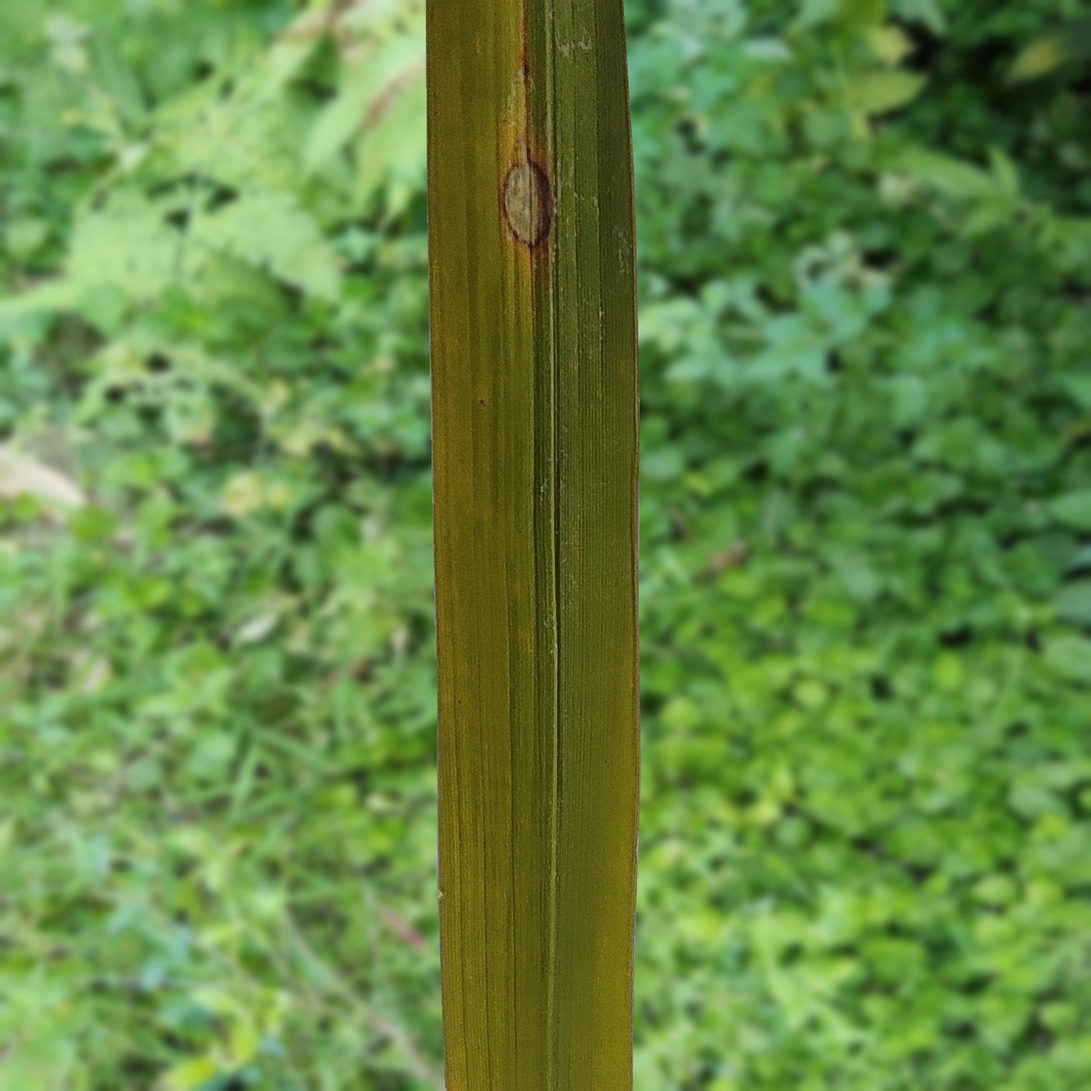LEAF BLAST: (501, 160, 551, 252)
